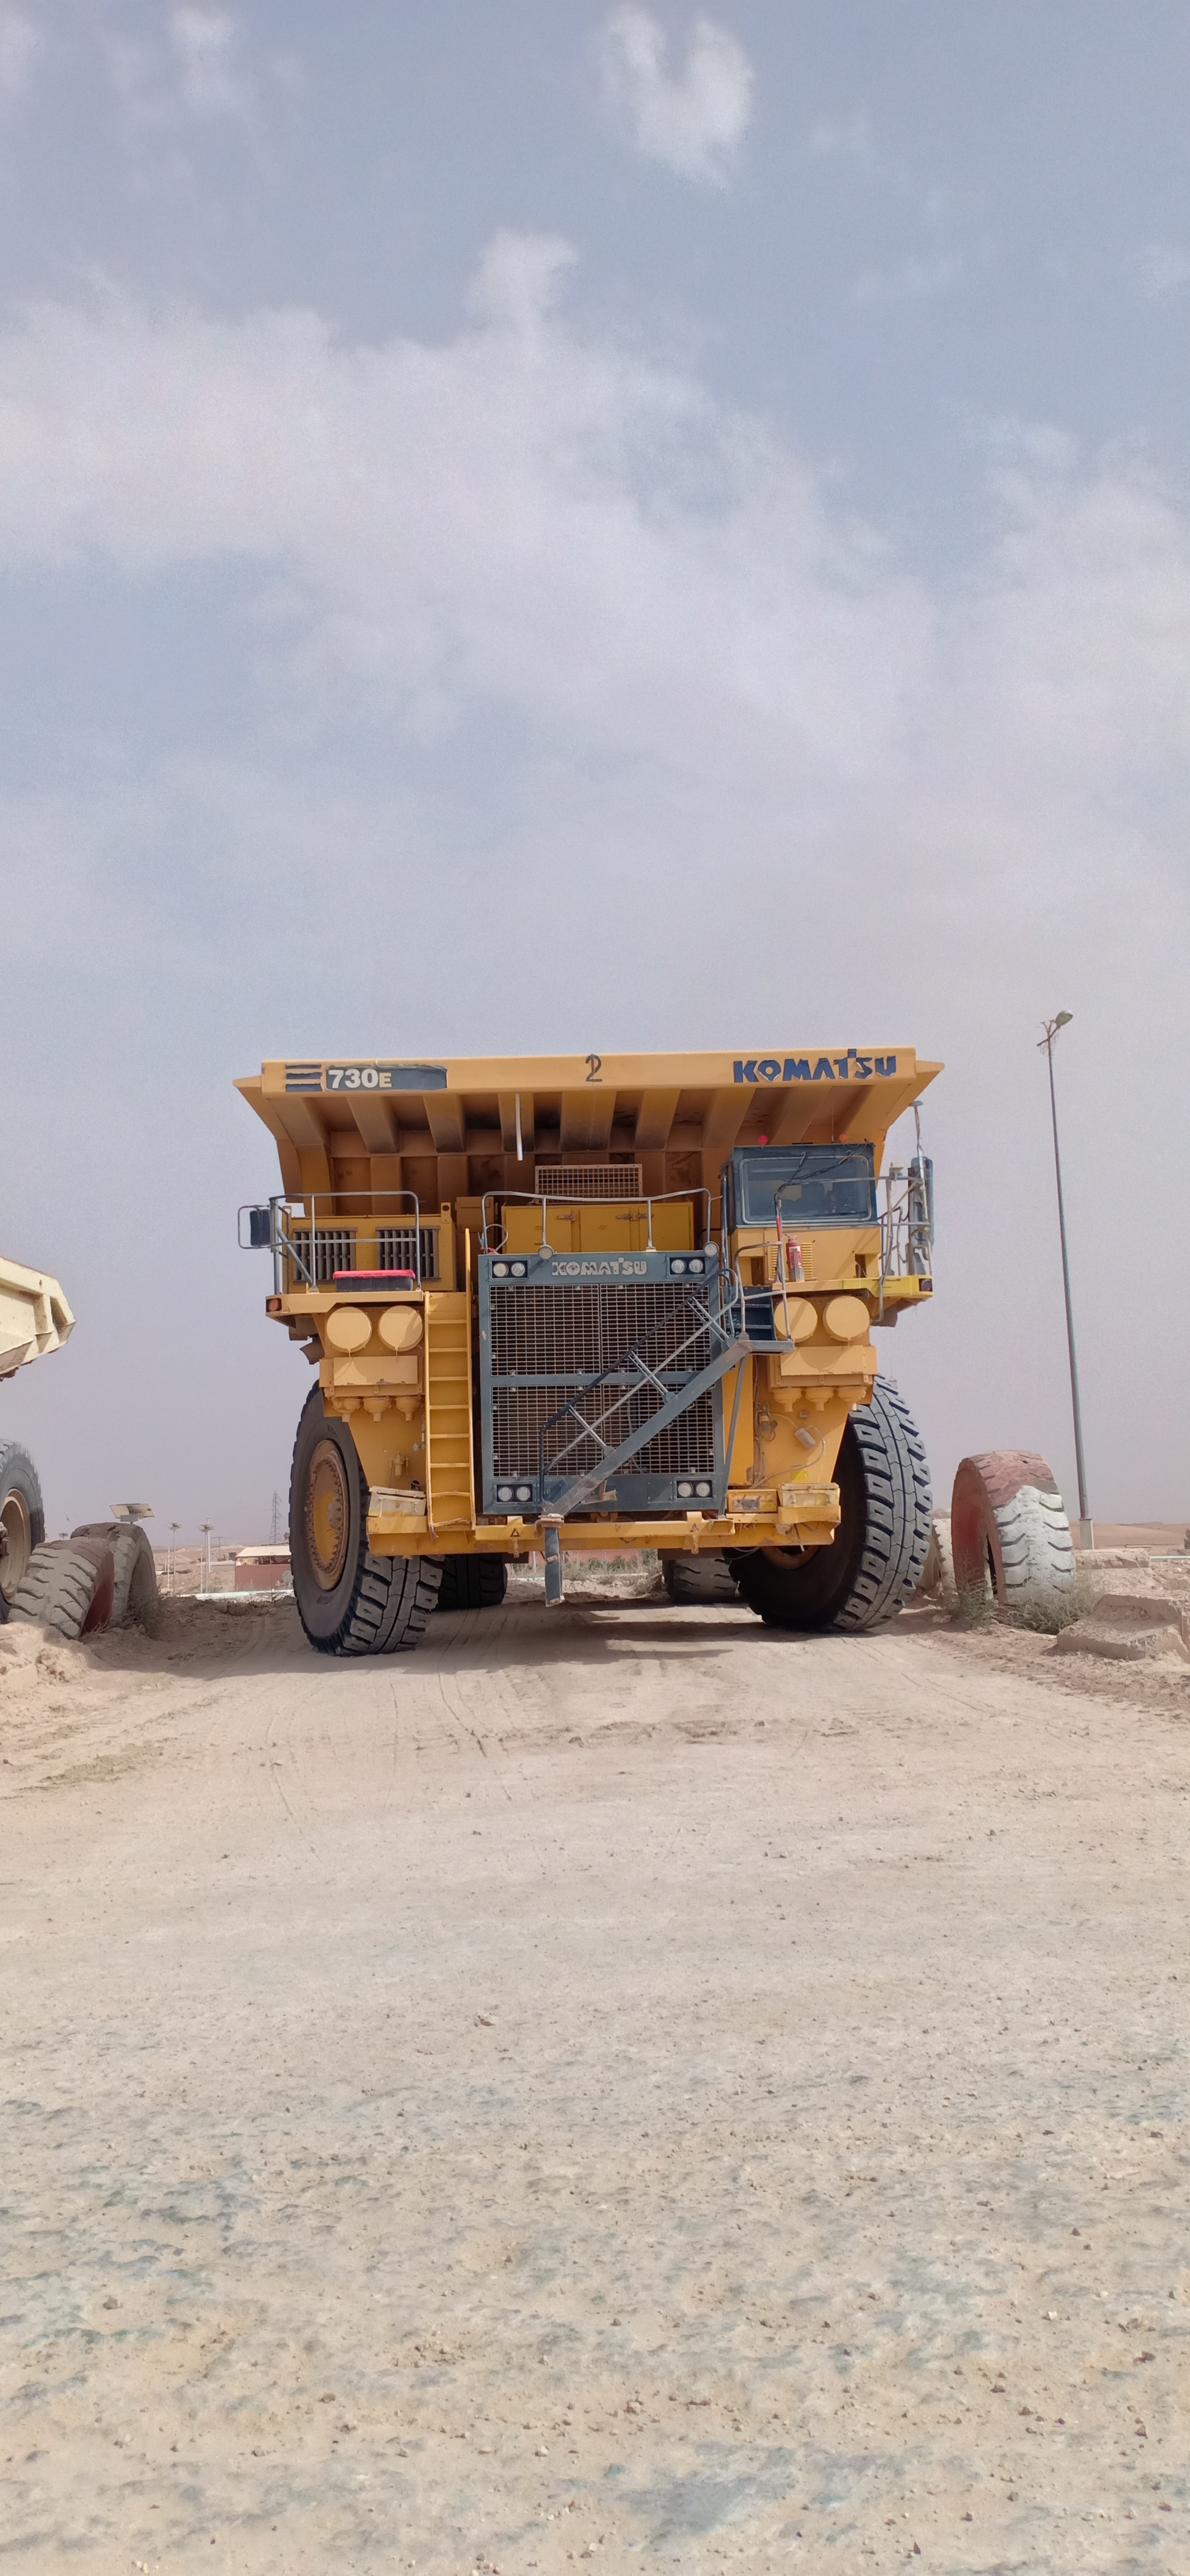camion: (217, 1015, 981, 1684)
